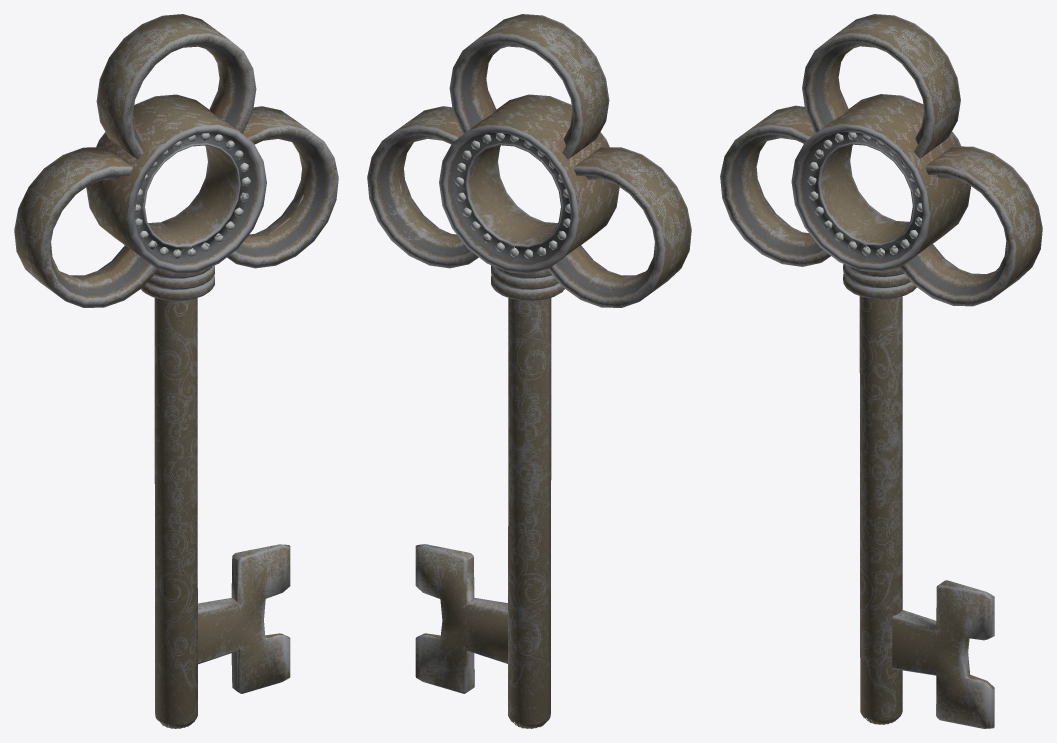
Rendered from key_03_steel_ring.glb.
The picture shows the model from 3 angles, left to right: view 1: azimuth 30°, elevation 25°; view 2: azimuth 150°, elevation 25°; view 3: azimuth 330°, elevation 25°; orthographic projection.
Visible parts, largest first — view 1: Key; view 2: Key; view 3: Key.
Part boxes in pixels (left/top/right/bottom): Key: left=14, top=14, right=338, bottom=728; Key: left=367, top=14, right=691, bottom=728; Key: left=720, top=14, right=1042, bottom=728.
Bounding box in the file's own units: 0.0668 × 0.15 × 0.0164.
1 material, 1 textured.
